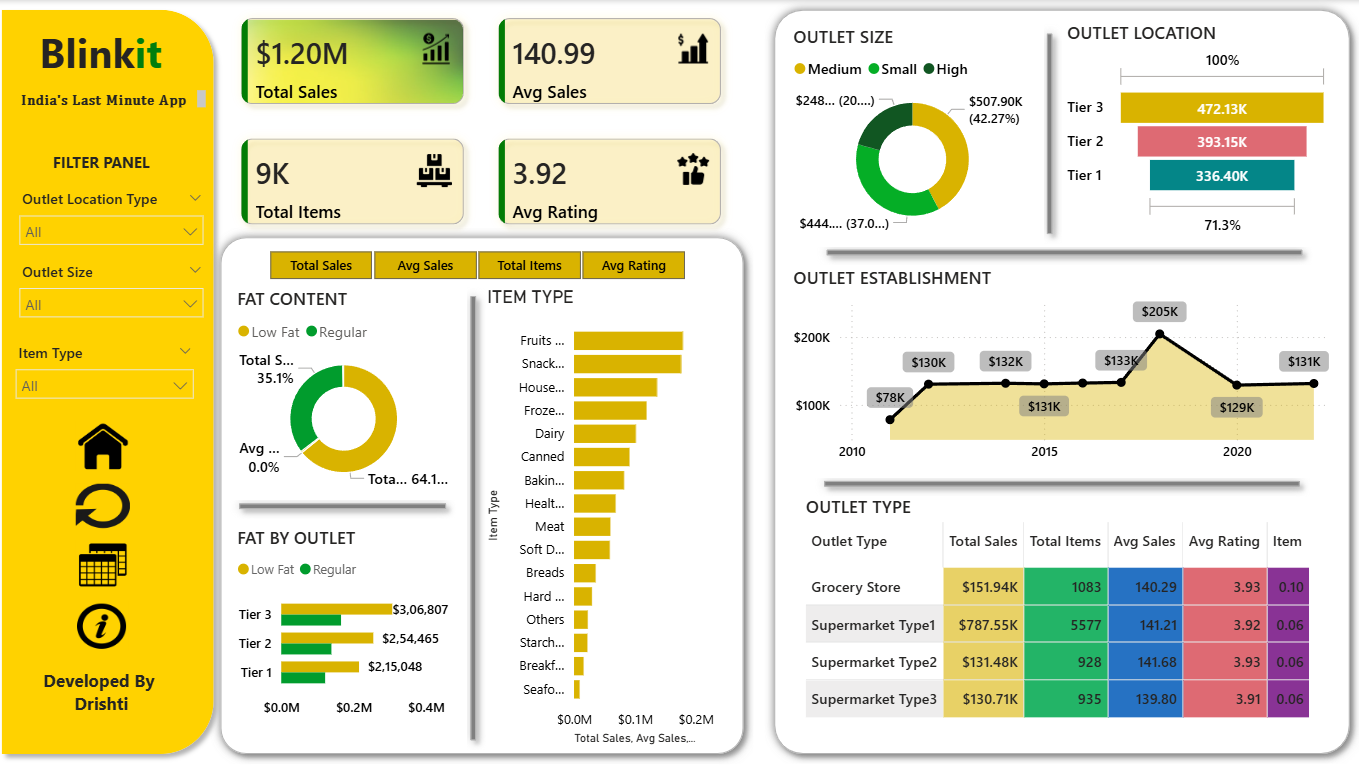

What the dashboard file says about the page in this screenshot:
{"tool":"powerbi","page":{"name":"Dashboard","canvas":[1280,720],"ordinal":0},"visuals":[{"type":"shape","box":[0,0,215.1,710.5],"z":0},{"type":"textbox","box":[29.1,18.6,144.2,60.5],"z":1000},{"type":"textbox","box":[11.6,79.1,191.9,25.6],"z":2000},{"type":"cardVisual","fields":{"Data":["BlinkIT Grocery Data.Total Sales","BlinkIT Grocery Data.Avg Sales","BlinkIT Grocery Data.Total Items","BlinkIT Grocery Data.Avg Rating"]},"box":[215.1,0,481.4,226.7],"z":3000},{"type":"shape","box":[203.5,211.6,504.7,498.8],"z":4000},{"type":"slicer","fields":{"Values":["Parameter.Parameter"]},"box":[232.6,226.7,436,39.5],"z":5000},{"type":"donutChart","title":"FAT CONTENT","fields":{"Y":["BlinkIT Grocery Data.Total Sales","BlinkIT Grocery Data.Avg Sales","BlinkIT Grocery Data.Total Items","BlinkIT Grocery Data.Avg Rating"],"Category":["BlinkIT Grocery Data.Item Fat Content"]},"box":[223.3,266.3,208.1,195.3],"z":6000},{"type":"clusteredBarChart","title":"FAT BY OUTLET","fields":{"Y":["BlinkIT Grocery Data.Total Sales"],"Series":["BlinkIT Grocery Data.Item Fat Content"],"Category":["BlinkIT Grocery Data.Outlet Location Type"]},"box":[223.3,488.4,224.4,188.4],"z":7000},{"type":"barChart","title":"ITEM TYPE","fields":{"Y":["BlinkIT Grocery Data.Total Sales","BlinkIT Grocery Data.Avg Sales","BlinkIT Grocery Data.Total Items","BlinkIT Grocery Data.Avg Rating"],"Category":["BlinkIT Grocery Data.Item Type"]},"box":[455.8,266.3,220.9,431.4],"z":8000},{"type":"shape","box":[718.6,0,553.5,710.5],"z":9000},{"type":"donutChart","title":"OUTLET SIZE","fields":{"Category":["BlinkIT Grocery Data.Outlet Size"],"Y":["BlinkIT Grocery Data.Total Sales"]},"box":[740.7,22.1,231.4,201.2],"z":10000},{"type":"funnel","title":"OUTLET LOCATION","fields":{"Category":["BlinkIT Grocery Data.Outlet Location Type"],"Y":["Sum(BlinkIT Grocery Data.Sales)"]},"box":[995.4,18.6,253.5,204.7],"z":11000},{"type":"shape","box":[436,266.3,23.3,431.4],"z":12000},{"type":"shape","box":[220.9,459.3,210.5,23.3],"z":13000},{"type":"lineChart","title":"OUTLET ESTABLISHMENT","fields":{"Y":["BlinkIT Grocery Data.Total Sales"],"Category":["BlinkIT Grocery Data.Outlet Establishment Year"]},"box":[740.7,246.5,508.1,191.9],"z":14000},{"type":"pivotTable","title":"OUTLET TYPE ","fields":{"Rows":["BlinkIT Grocery Data.Outlet Type"],"Values":["BlinkIT Grocery Data.Total Sales","BlinkIT Grocery Data.Total Items","BlinkIT Grocery Data.Avg Sales","BlinkIT Grocery Data.Avg Rating","Avg(BlinkIT Grocery Data.Item Visibility)"]},"box":[752.3,459.3,484.9,226.7],"z":15000},{"type":"shape","box":[972.1,22.1,23.3,204.7],"z":16000},{"type":"shape","box":[767.4,223.3,460.5,23.3],"z":17000},{"type":"shape","box":[765.1,438.4,460.5,23.3],"z":18000},{"type":"slicer","fields":{"Values":["BlinkIT Grocery Data.Outlet Location Type"]},"box":[15.1,170.9,191.9,67.4],"z":19000},{"type":"slicer","fields":{"Values":["BlinkIT Grocery Data.Outlet Size"]},"box":[15.1,238.4,191.9,67.4],"z":20000},{"type":"slicer","fields":{"Values":["BlinkIT Grocery Data.Item Type"]},"box":[11.6,314,186,68.6],"z":21000},{"type":"textbox","box":[15.1,136,173.3,34.9],"z":22000},{"type":"actionButton","box":[77.9,391.9,50,46.5],"z":23000},{"type":"actionButton","box":[77.9,450,50,41.9],"z":24000},{"type":"actionButton","box":[77.9,502.3,50,46.5],"z":25000},{"type":"actionButton","box":[76.7,559.3,50,46.5],"z":26000},{"type":"textbox","box":[15.1,616.3,173.3,69.8],"z":27000}]}

Visuals, with their boxes in screenshot pixels (x1, y1, x2, y2), scaled from the page's 1280x720 canvas onto the 1359x770 screenshot:
shape: detection(0, 0, 228, 760)
textbox: detection(31, 20, 184, 85)
textbox: detection(12, 85, 216, 112)
cardVisual - BlinkIT Grocery Data.Total Sales x BlinkIT Grocery Data.Avg Sales: detection(228, 0, 739, 242)
shape: detection(216, 226, 752, 760)
slicer - Parameter.Parameter: detection(247, 242, 710, 285)
"FAT CONTENT" donutChart: detection(237, 285, 458, 494)
"FAT BY OUTLET" clusteredBarChart: detection(237, 522, 475, 724)
"ITEM TYPE" barChart: detection(484, 285, 718, 746)
shape: detection(763, 0, 1351, 760)
"OUTLET SIZE" donutChart: detection(786, 24, 1032, 239)
"OUTLET LOCATION" funnel: detection(1057, 20, 1326, 239)
shape: detection(463, 285, 488, 746)
shape: detection(235, 491, 458, 516)
"OUTLET ESTABLISHMENT" lineChart: detection(786, 264, 1326, 469)
"OUTLET TYPE " pivotTable: detection(799, 491, 1314, 734)
shape: detection(1032, 24, 1057, 243)
shape: detection(815, 239, 1304, 264)
shape: detection(812, 469, 1301, 494)
slicer - BlinkIT Grocery Data.Outlet Location Type: detection(16, 183, 220, 255)
slicer - BlinkIT Grocery Data.Outlet Size: detection(16, 255, 220, 327)
slicer - BlinkIT Grocery Data.Item Type: detection(12, 336, 210, 409)
textbox: detection(16, 145, 200, 183)
actionButton: detection(83, 419, 136, 469)
actionButton: detection(83, 481, 136, 526)
actionButton: detection(83, 537, 136, 587)
actionButton: detection(81, 598, 135, 648)
textbox: detection(16, 659, 200, 734)
